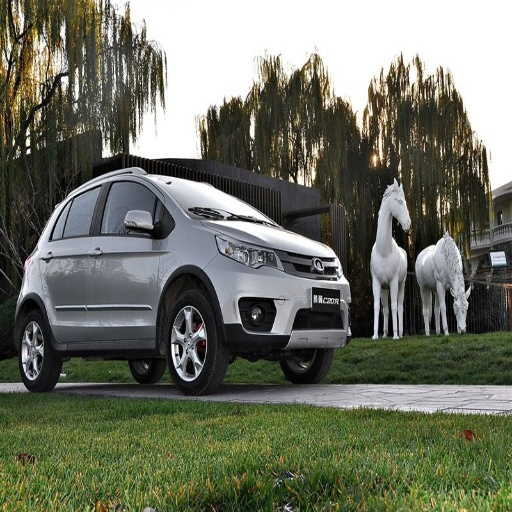front_bumper: (216, 250, 352, 350)
front_right_door: (88, 174, 162, 339)
front_right_light: (216, 234, 282, 269)
